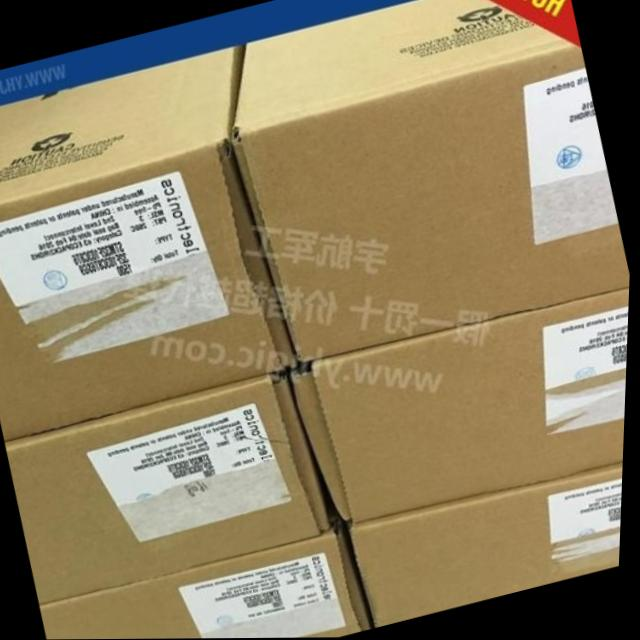box: (236, 0, 632, 361), (0, 39, 302, 444), (9, 362, 351, 605), (302, 288, 632, 527), (349, 458, 627, 626), (45, 527, 378, 640)
